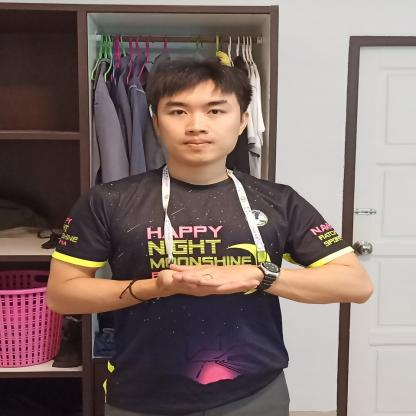Love: (111, 245, 348, 318)
